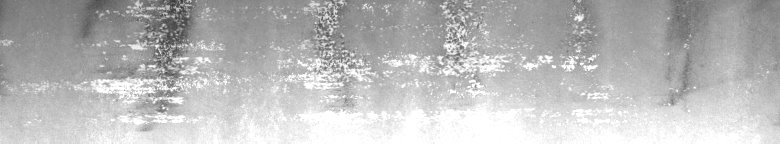hc: (96, 4, 210, 112)
